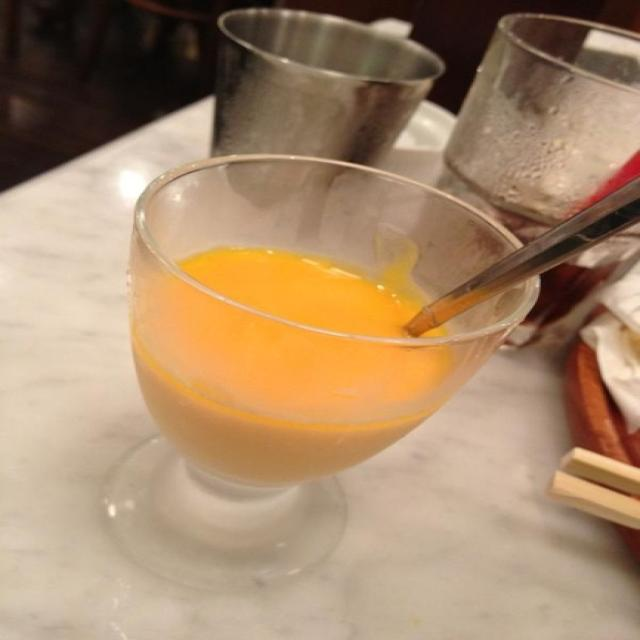汉堡快餐: (15, 68, 613, 572)
